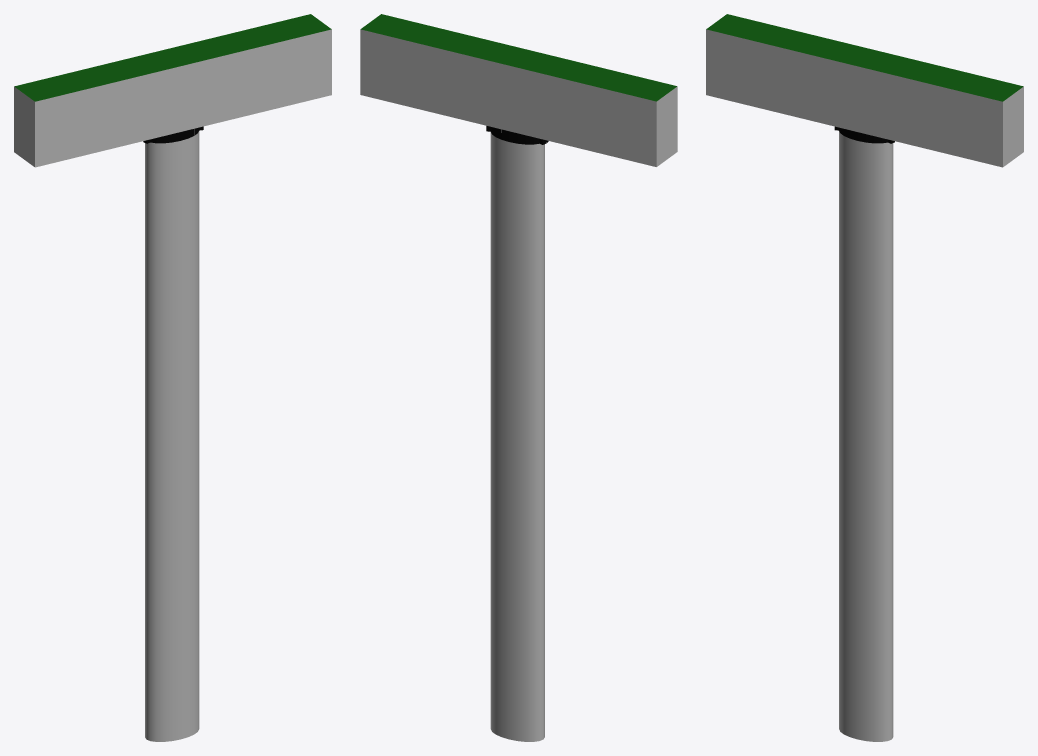
The model's file is street_sign.obj.
3 renders of one model, left to right at view 1: azimuth 30°, elevation 25°; view 2: azimuth 150°, elevation 25°; view 3: azimuth 330°, elevation 25°, orthographic.
Visible parts, largest first — view 1: polySurface1; view 2: polySurface1; view 3: polySurface1.
Boxes of the visible parts, left/top/right/bottom form: polySurface1: left=14, top=14, right=331, bottom=741; polySurface1: left=360, top=14, right=677, bottom=741; polySurface1: left=706, top=14, right=1023, bottom=741.
Size of the model in its own units: 12.33 by 26.83 by 1.51.
